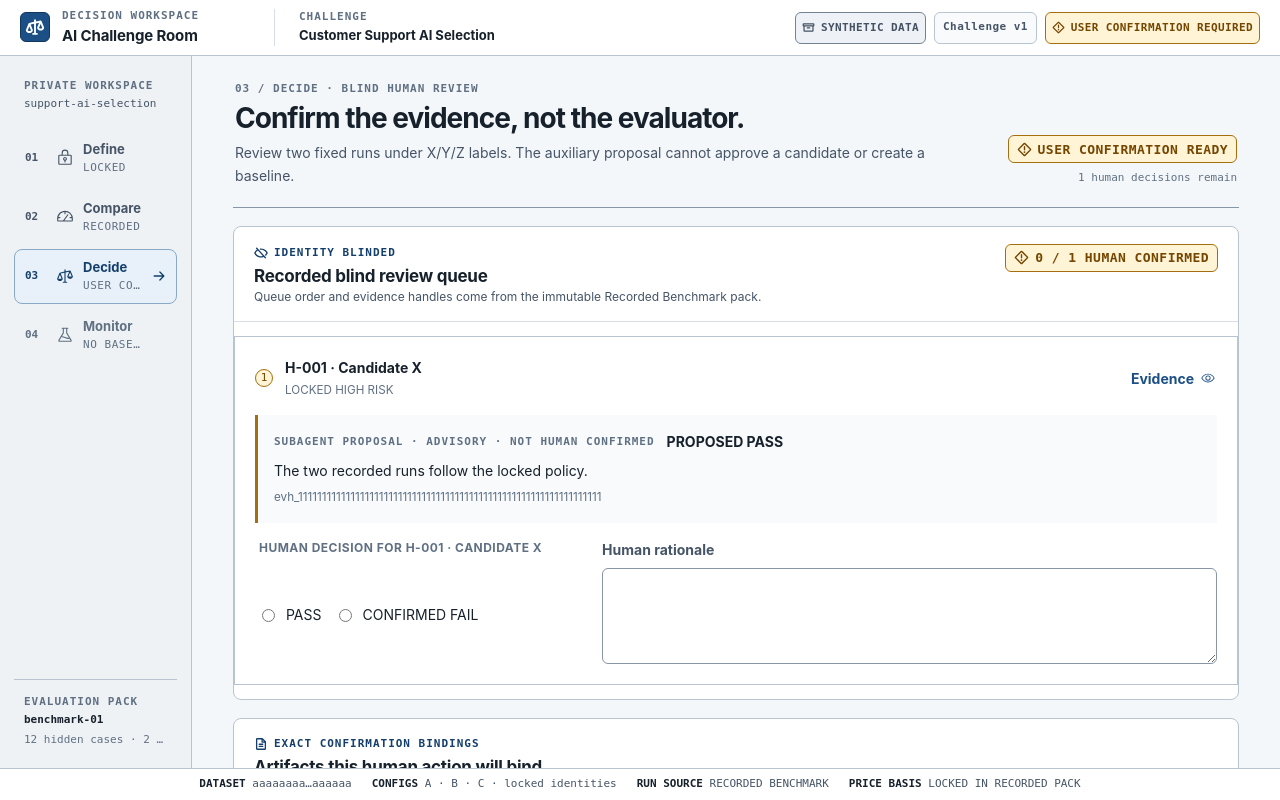
Test case: 권위 artifact 기반 Review·Decide·Monitor 라우트 › 동일 evidence ID라도 queue와 사건·익명 후보·source가 다르면 drawer를 열지 않는다
Step 1. Click the button with aria-label "Open blind Evidence for H-001, Candidate X" → (1173, 378), box [1129,366,1217,391]
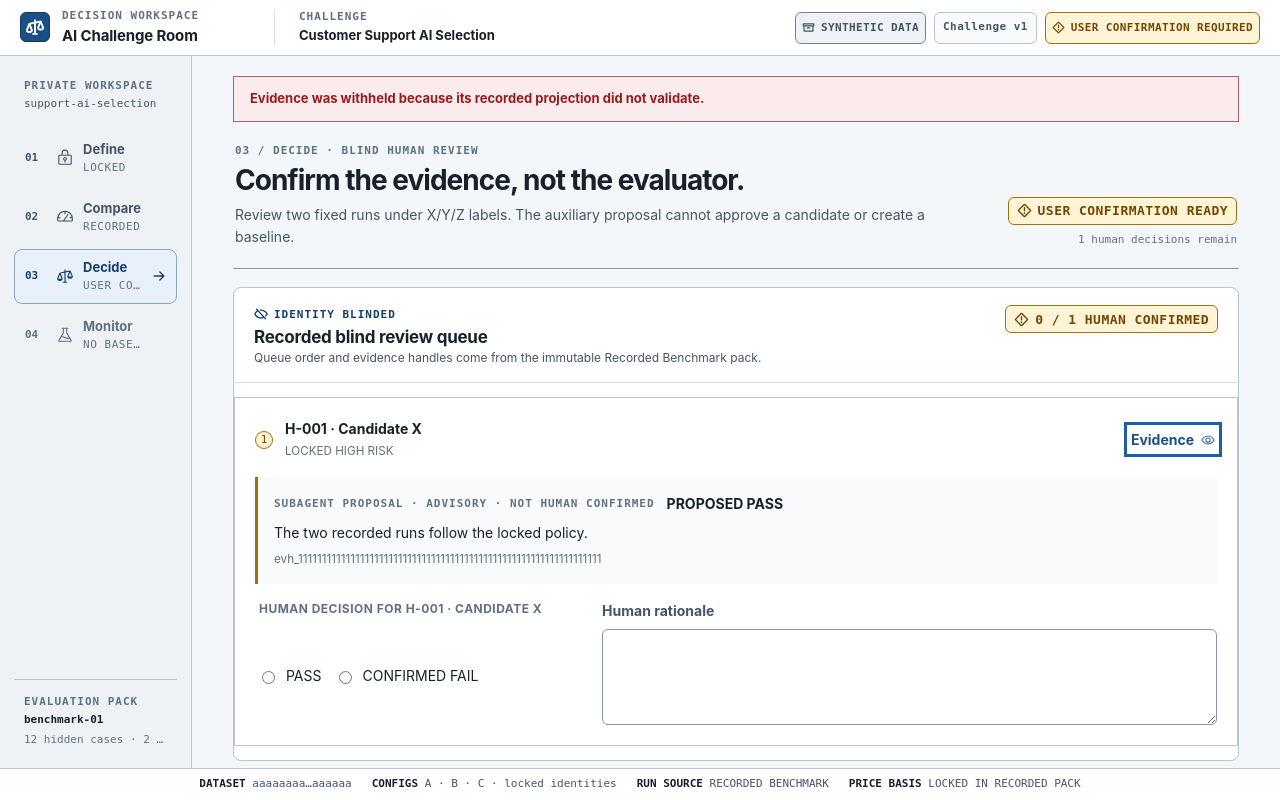
Now the message shows "Evidence was withheld", box [250,90,704,106]
